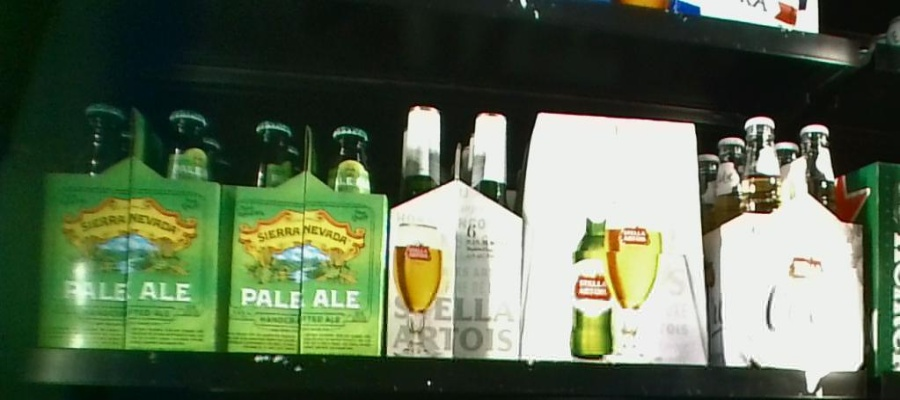bottle: (41, 96, 225, 351), (528, 110, 710, 361), (717, 110, 861, 378), (226, 118, 386, 349), (391, 102, 521, 359)
